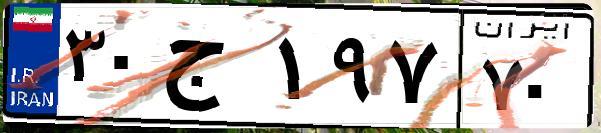0: (525, 38, 570, 115), (110, 28, 158, 98)
1: (270, 28, 330, 110)
3: (57, 26, 110, 100)
7: (385, 28, 445, 110), (475, 38, 525, 113)
9: (330, 28, 385, 110)
ج: (158, 20, 270, 120)
